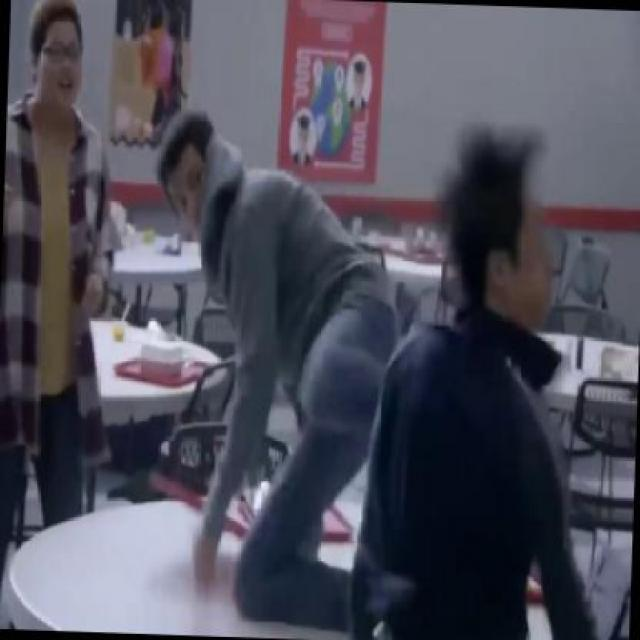fight: (138, 94, 597, 638)
non-fight: (0, 0, 132, 534)
